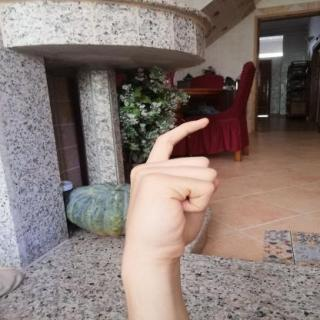RAA: (110, 109, 224, 269)
